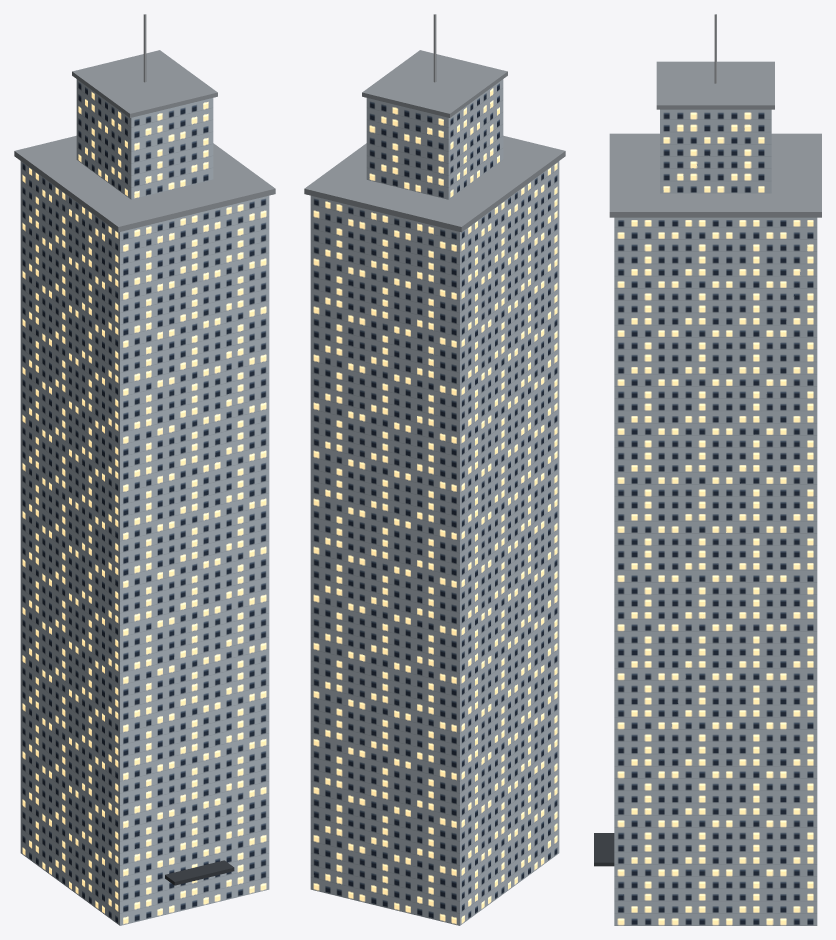
Rendered from gedung_pencakar_2.glb.
3 views of the same model, side by side, from view 1: azimuth 30°, elevation 25°; view 2: azimuth 150°, elevation 25°; view 3: azimuth 270°, elevation 25° (orthographic). The views are drawn at different scales.
Bounding box in the file's own units: 13.7 × 71.36 × 16.85.
4 materials, 1 textured.
